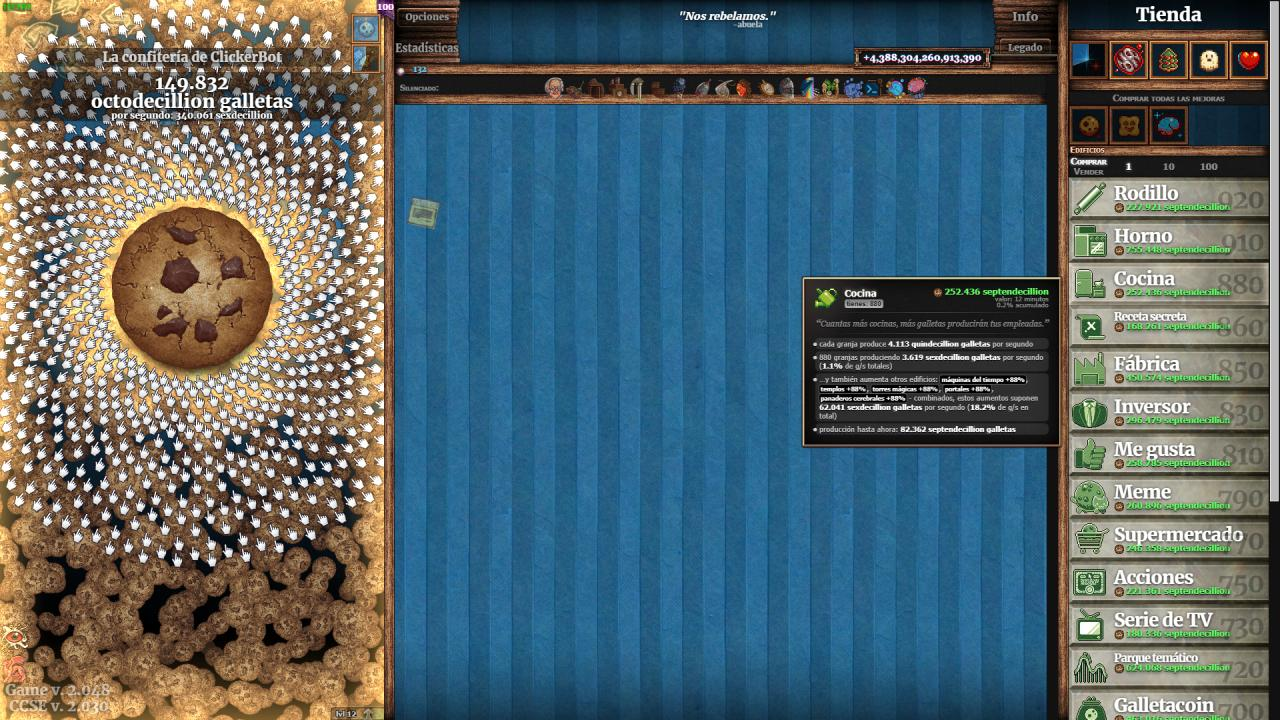GoldenCartridge: (406, 194, 442, 231)
